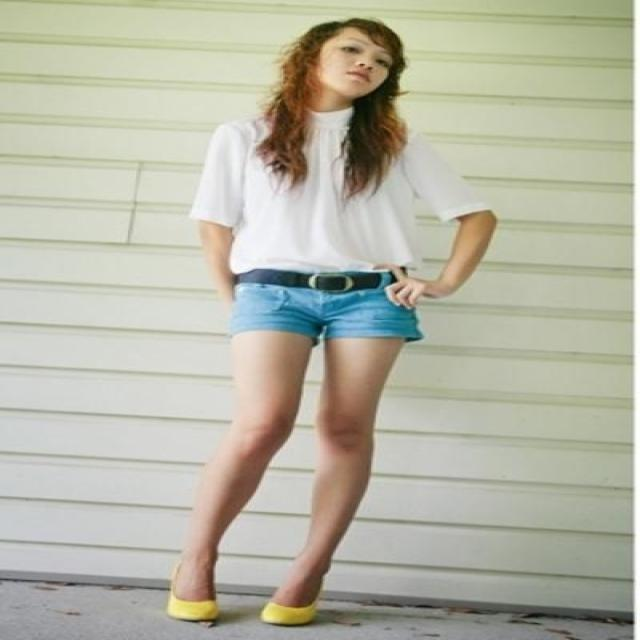shirt: (189, 97, 517, 285)
shoe: (166, 591, 308, 622)
shorts: (230, 269, 421, 340)
